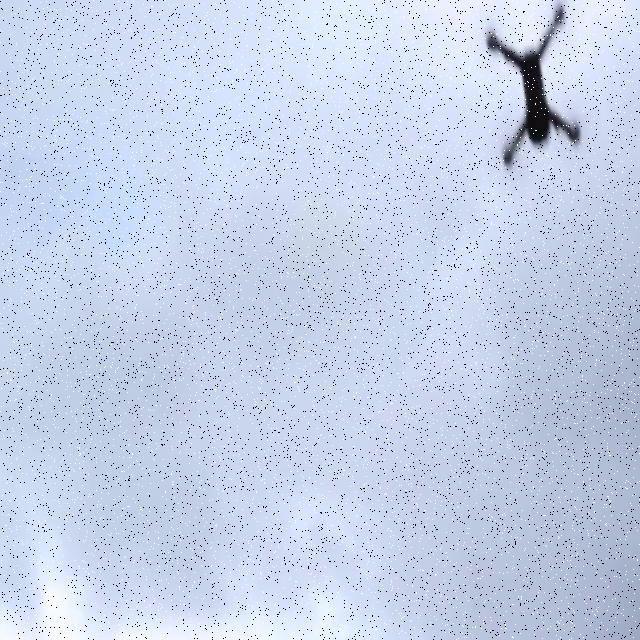UAV: (485, 2, 583, 170)
